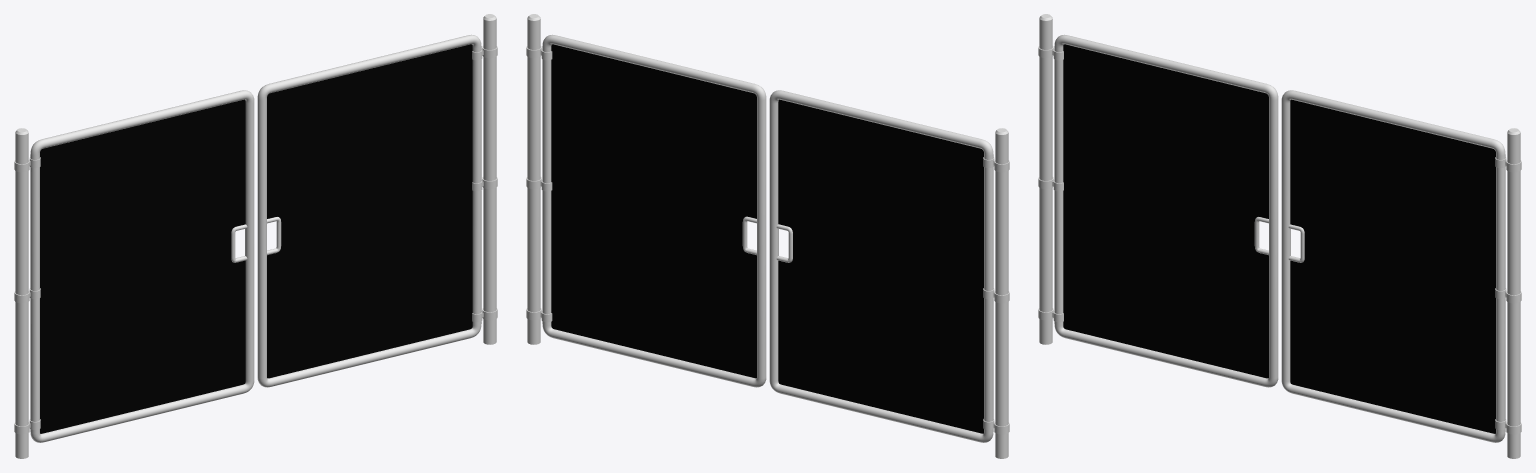
Rendered from Grade 1.fbx.
3 views of the same model, side by side, from view 1: azimuth 30°, elevation 25°; view 2: azimuth 150°, elevation 25°; view 3: azimuth 330°, elevation 25° (orthographic).
Parts seen in each view (by area): view 1: Cylinder.024; view 2: Cylinder.024; view 3: Cylinder.024.
Part boxes in pixels (x1,y1,x2,y2): Cylinder.024: (14,14,497,458); Cylinder.024: (526,14,1009,458); Cylinder.024: (1038,14,1521,458).
Bounding box in the file's own units: 599 × 388 × 16.71.
Materials: 2 (1 with a texture image).
